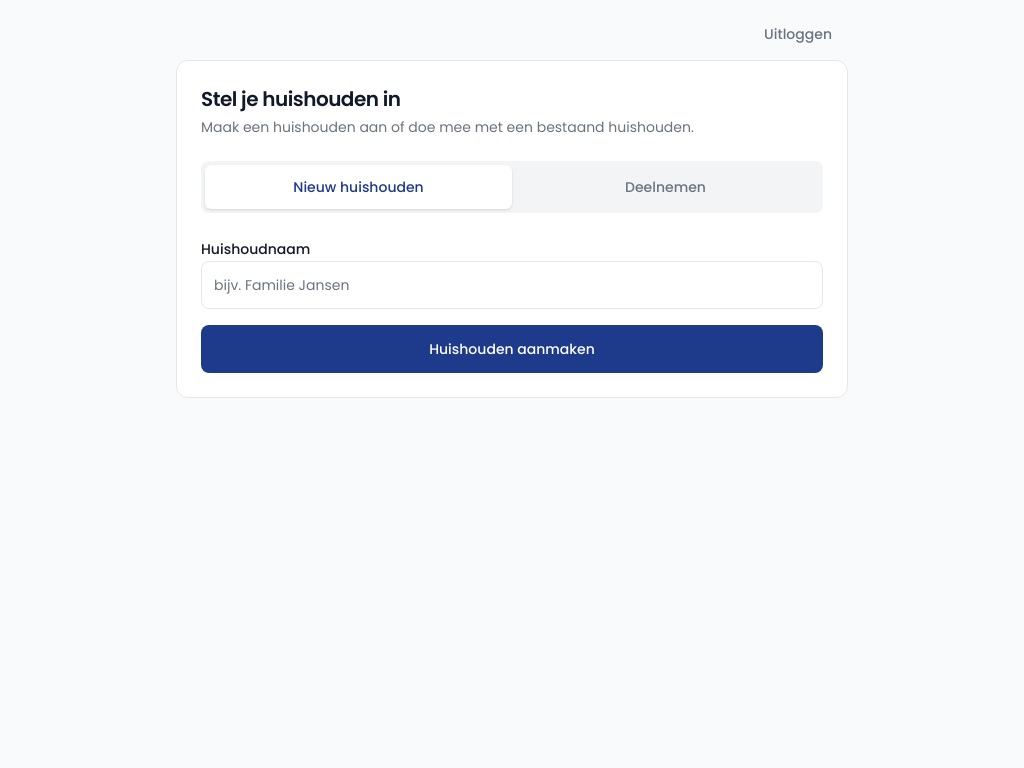
it: HouseholdSetupClient › swaps to the join form when that tab is picked
Click the tab "Deelnemen": click(666, 187) [512, 165, 819, 209]
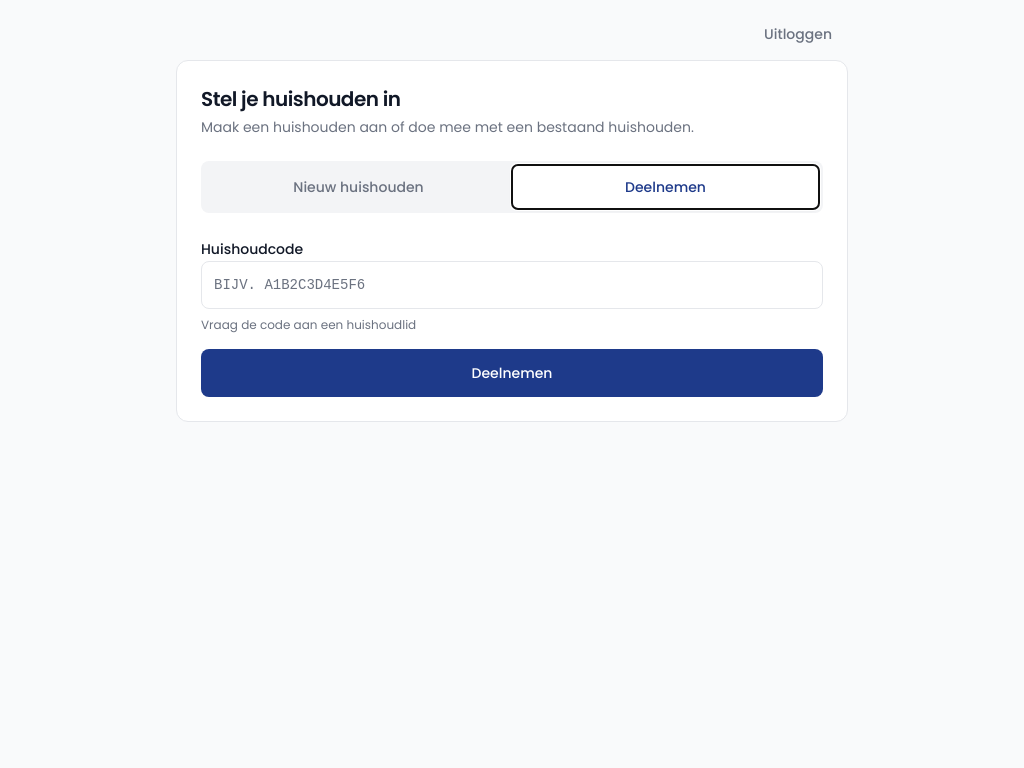
expect the field labelled "Huishoudcode" is shown: met, box [201, 261, 823, 309]
expect the label labelled "Huishoudnaam" is gone: met
